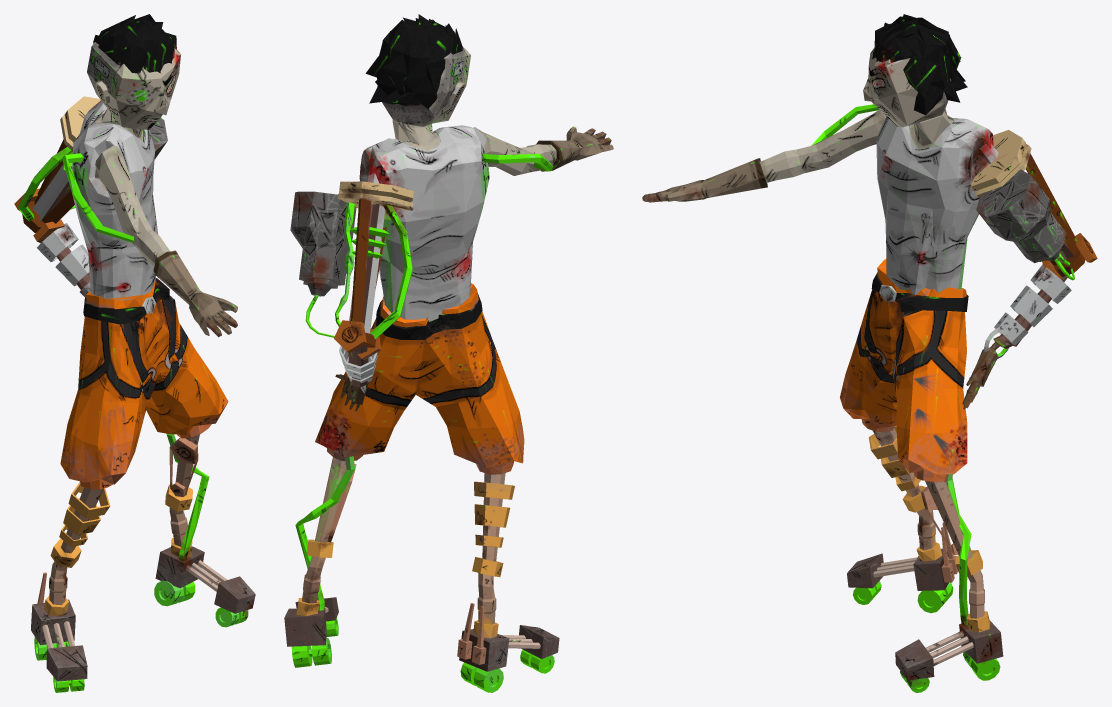
File: CyborgFINALAnimation_000009.obj
The picture shows the model from 3 angles, left to right: view 1: azimuth 30°, elevation 25°; view 2: azimuth 150°, elevation 25°; view 3: azimuth 270°, elevation 25°; orthographic projection. The views are drawn at different scales.
Parts seen in each view (by area): view 1: CyborgMesh_Cube.002; view 2: CyborgMesh_Cube.002; view 3: CyborgMesh_Cube.002.
Part boxes in pixels (x1=…): CyborgMesh_Cube.002: x1=14, y1=14, x2=255, y2=692; CyborgMesh_Cube.002: x1=284, y1=14, x2=613, y2=692; CyborgMesh_Cube.002: x1=642, y1=14, x2=1097, y2=692.
Bounding box in the file's own units: 3.54 × 9.57 × 6.33.
